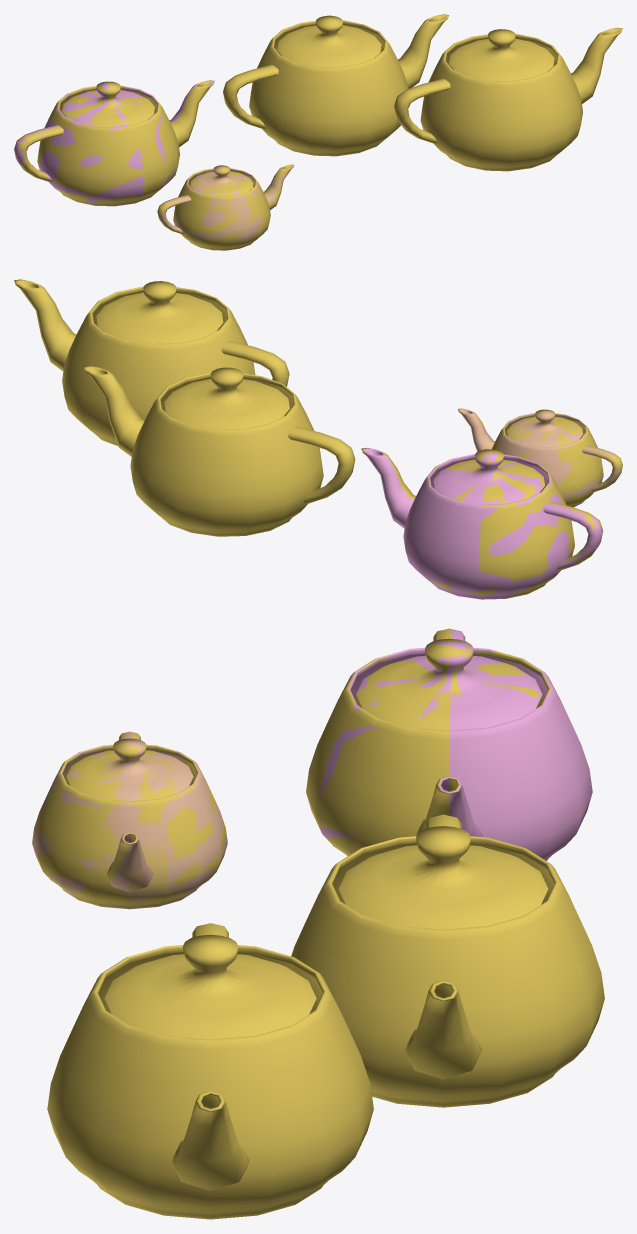
File: teapot1.DAE
3 renders of one model, top to bottom at view 1: azimuth 30°, elevation 25°; view 2: azimuth 150°, elevation 25°; view 3: azimuth 270°, elevation 25°, orthographic. The views are drawn at different scales.
Parts seen in each view (by area): view 1: Teapot04, Teapot01, Teapot03; view 2: Teapot04, Teapot01, Teapot03; view 3: Teapot04, Teapot01, Teapot03.
Boxes of the visible parts, <box> form: Teapot04: <box>16,14,622,250</box>; Teapot01: <box>14,81,214,206</box>; Teapot03: <box>157,165,294,250</box>; Teapot04: <box>14,279,622,597</box>; Teapot01: <box>361,448,603,599</box>; Teapot03: <box>458,408,622,503</box>; Teapot04: <box>35,628,604,1219</box>; Teapot01: <box>319,628,592,860</box>; Teapot03: <box>32,731,227,909</box>.
Bounding box in the file's own units: 168 × 76.02 × 34.12.
